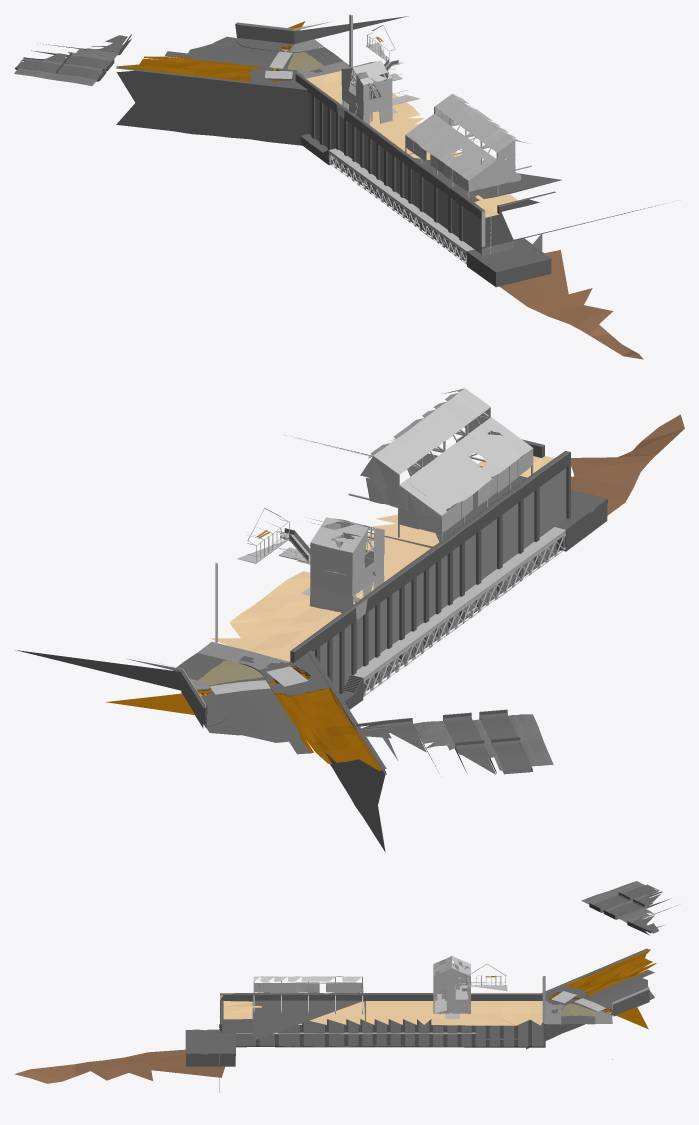
The model's file is bronx_e_5.FBX.
3 renders of one model, top to bottom at view 1: azimuth 30°, elevation 25°; view 2: azimuth 150°, elevation 25°; view 3: azimuth 270°, elevation 25°, orthographic. The views are drawn at different scales.
Visible parts, largest first — view 1: unnamed, null; view 2: unnamed, null; view 3: unnamed, null.
Part boxes in pixels (bbox=[...]): unnamed: bbox=[14, 14, 677, 359]; null: bbox=[319, 48, 492, 252]; unnamed: bbox=[15, 388, 684, 852]; null: bbox=[252, 418, 535, 696]; unnamed: bbox=[14, 881, 677, 1092]; null: bbox=[255, 956, 503, 1046].
Size of the model in its own units: 152 by 47.01 by 235.
